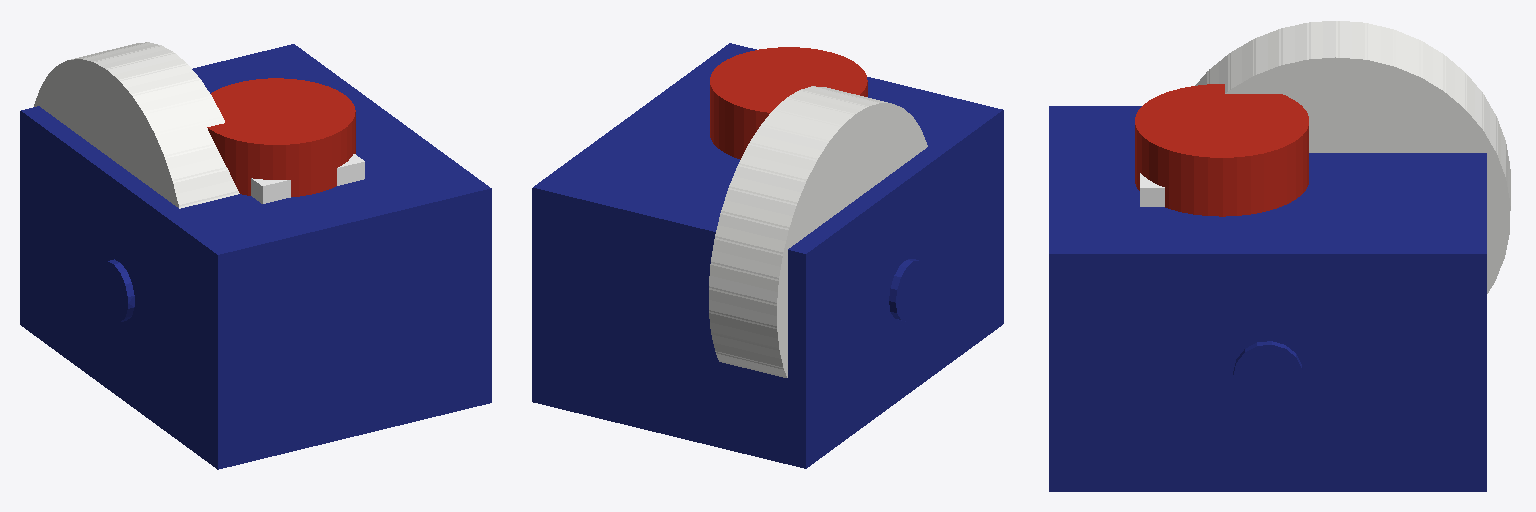
The robot description file, URDF, robot "amr":
<?xml version="1.0" encoding="utf-8"?>
<!-- This URDF was automatically created by SolidWorks to URDF Exporter! Originally created by Stephen Brawner (brawner@gmail.com) 
     Commit Version: 1.6.0-4-g7f85cfe  Build Version: 1.6.7995.38578
     For more information, please see http://wiki.ros.org/sw_urdf_exporter -->
<robot
  name="amr">
  <link
    name="base_link">
    <inertial>
      <origin
        xyz="-1.3878E-17 -0.001549 -0.025118"
        rpy="0 0 0" />
      <mass
        value="0.5046" />
      <inertia
        ixx="0.00052985"
        ixy="-2.3496E-20"
        ixz="1.2176E-20"
        iyy="0.00052523"
        iyz="-1.6491E-06"
        izz="0.00083999" />
    </inertial>
    <visual>
      <origin
        xyz="0 0 0"
        rpy="0 0 0" />
      <geometry>
        <mesh
          filename="package://amr/meshes/base_link.STL" />
      </geometry>
      <material
        name="">
        <color
          rgba="0.18824 0.23137 0.58824 1" />
      </material>
    </visual>
    <collision>
      <origin
        xyz="0 0 0"
        rpy="0 0 0" />
      <geometry>
        <mesh
          filename="package://amr/meshes/base_link.STL" />
      </geometry>
    </collision>
  </link>
  <link
    name="right_wheel">
    <inertial>
      <origin
        xyz="3.46944695195361E-18 -1.38777878078145E-17 -1.73472347597681E-18"
        rpy="0 0 0" />
      <mass
        value="0.0137444678594553" />
      <inertia
        ixx="4.2951462060798E-06"
        ixy="3.90813348607995E-39"
        ixz="2.00890147845606E-39"
        iyy="2.20369634679934E-06"
        iyz="-5.80897065071305E-40"
        izz="2.20369634679934E-06" />
    </inertial>
    <visual>
      <origin
        xyz="0 0 0"
        rpy="0 0 0" />
      <geometry>
        <mesh
          filename="package://amr/meshes/right_wheel.STL" />
      </geometry>
      <material
        name="">
        <color
          rgba="0.964705882352941 0.964705882352941 0.952941176470588 1" />
      </material>
    </visual>
    <collision>
      <origin
        xyz="0 0 0"
        rpy="0 0 0" />
      <geometry>
        <mesh
          filename="package://amr/meshes/right_wheel.STL" />
      </geometry>
    </collision>
  </link>
  <joint
    name="right_wheel_joint"
    type="continuous">
    <origin
      xyz="-0.0615 0.038709 -0.04"
      rpy="0 0 0" />
    <parent
      link="base_link" />
    <child
      link="right_wheel" />
    <axis
      xyz="1 0 0" />
  </joint>
  <link
    name="left_wheel">
    <inertial>
      <origin
        xyz="0.123 0 -1.73472347597681E-18"
        rpy="0 0 0" />
      <mass
        value="0.0137444678594554" />
      <inertia
        ixx="4.2951462060798E-06"
        ixy="2.29588740394978E-39"
        ixz="-2.86985925493723E-39"
        iyy="2.20369634679934E-06"
        iyz="4.7048375074907E-39"
        izz="2.20369634679934E-06" />
    </inertial>
    <visual>
      <origin
        xyz="0 0 0"
        rpy="0 0 0" />
      <geometry>
        <mesh
          filename="package://amr/meshes/left_wheel.STL" />
      </geometry>
      <material
        name="">
        <color
          rgba="0.964705882352941 0.964705882352941 0.952941176470588 1" />
      </material>
    </visual>
    <collision>
      <origin
        xyz="0 0 0"
        rpy="0 0 0" />
      <geometry>
        <mesh
          filename="package://amr/meshes/left_wheel.STL" />
      </geometry>
    </collision>
  </link>
  <joint
    name="left_wheel_joint"
    type="continuous">
    <origin
      xyz="-0.0615 0.038709 -0.04"
      rpy="0 0 0" />
    <parent
      link="base_link" />
    <child
      link="left_wheel" />
    <axis
      xyz="1 0 0" />
  </joint>
  <link
    name="scan_link">
    <inertial>
      <origin
        xyz="0 0 6.93889390390723E-18"
        rpy="0 0 0" />
      <mass
        value="0.0098174770424681" />
      <inertia
        ixx="7.10744431720347E-07"
        ixy="-4.77927573339736E-55"
        ixz="-2.85760861487596E-39"
        iyy="7.10744431720347E-07"
        iyz="-2.37149515633406E-39"
        izz="7.66990393942821E-07" />
    </inertial>
    <visual>
      <origin
        xyz="0 0 0"
        rpy="0 0 0" />
      <geometry>
        <mesh
          filename="package://amr/meshes/scan_link.STL" />
      </geometry>
      <material
        name="">
        <color
          rgba="0.768627450980392 0.207843137254902 0.152941176470588 1" />
      </material>
    </visual>
    <collision>
      <origin
        xyz="0 0 0"
        rpy="0 0 0" />
      <geometry>
        <mesh
          filename="package://amr/meshes/scan_link.STL" />
      </geometry>
    </collision>
  </link>
  <joint
    name="scan_joint"
    type="continuous">
    <origin
      xyz="0 -0.026291 0.012"
      rpy="0 0 0" />
    <parent
      link="base_link" />
    <child
      link="scan_link" />
    <axis
      xyz="0 0 -1" />
  </joint>
  <link
    name="camera_link">
    <inertial>
      <origin
        xyz="0 0 0"
        rpy="0 0 0" />
      <mass
        value="0" />
      <inertia
        ixx="0"
        ixy="0"
        ixz="0"
        iyy="0"
        iyz="0"
        izz="0" />
    </inertial>
    <visual>
      <origin
        xyz="0 0 0"
        rpy="0 0 0" />
      <geometry>
        <mesh
          filename="package://amr/meshes/camera_link.STL" />
      </geometry>
      <material
        name="">
        <color
          rgba="1 1 1 1" />
      </material>
    </visual>
    <collision>
      <origin
        xyz="0 0 0"
        rpy="0 0 0" />
      <geometry>
        <mesh
          filename="package://amr/meshes/camera_link.STL" />
      </geometry>
    </collision>
  </link>
  <joint
    name="camera_joint"
    type="fixed">
    <origin
      xyz="0 -0.0732905335476936 -0.025"
      rpy="0 0 0" />
    <parent
      link="base_link" />
    <child
      link="camera_link" />
    <axis
      xyz="0 0 0" />
  </joint>
</robot>

--- Render facts (derived) ---
Views: 3 orthographic renders of the robot side by side, from view 1: azimuth 30°, elevation 25°; view 2: azimuth 150°, elevation 25°; view 3: azimuth 270°, elevation 25°.
Model amr with 5 links and 4 joints (3 continuous, 1 fixed), rooted at base_link, posed all joints at 0.
Links seen in each view (by area): view 1: base_link, scan_link, right_wheel, left_wheel, camera_link; view 2: base_link, right_wheel, left_wheel, scan_link; view 3: base_link, scan_link, right_wheel, left_wheel, camera_link.
Boxes of the visible links, left/top/right/bottom form: base_link: left=20, top=44, right=491, bottom=469; scan_link: left=207, top=78, right=355, bottom=196; right_wheel: left=34, top=42, right=239, bottom=208; left_wheel: left=36, top=42, right=238, bottom=207; camera_link: left=251, top=154, right=364, bottom=203; base_link: left=532, top=43, right=1003, bottom=468; right_wheel: left=709, top=86, right=927, bottom=377; left_wheel: left=709, top=86, right=926, bottom=377; scan_link: left=710, top=47, right=867, bottom=159; base_link: left=1049, top=106, right=1486, bottom=491; scan_link: left=1135, top=84, right=1308, bottom=216; right_wheel: left=1199, top=21, right=1509, bottom=293; left_wheel: left=1195, top=21, right=1510, bottom=292; camera_link: left=1140, top=173, right=1164, bottom=206.
Size in the robot's own frame: 0.21 by 0.2635 by 0.232 metres.
5 mesh visuals loaded from 5 distinct referenced files (5 binary STL).
